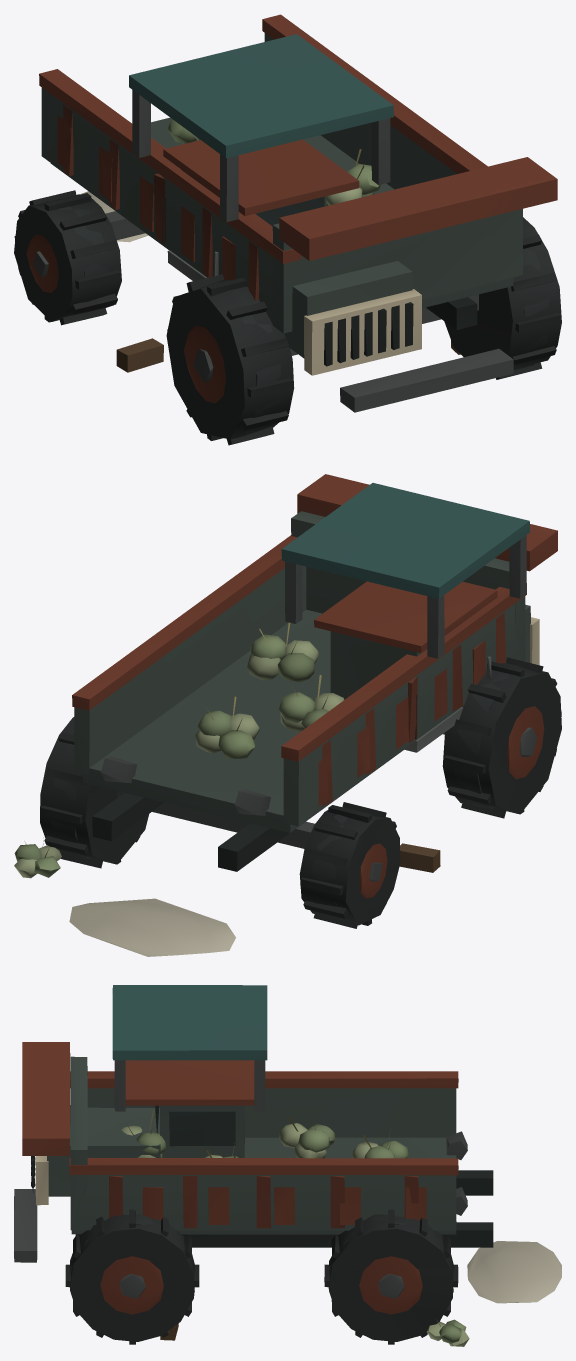
The model's file is haul_truck_c_lod2.glb.
3 renders of one model, top to bottom at view 1: azimuth 30°, elevation 25°; view 2: azimuth 150°, elevation 25°; view 3: azimuth 270°, elevation 25°, orthographic. The views are drawn at different scales.
Parts seen in each view (by area): view 1: Surface.001; view 2: Surface.001; view 3: Surface.001.
Part boxes in pixels (x1,y1,x2,y2): Surface.001: [14, 14, 561, 445]; Surface.001: [14, 474, 561, 956]; Surface.001: [14, 985, 561, 1346].
Bounding box in the file's own units: 7.79 × 6.47 × 13.34.
